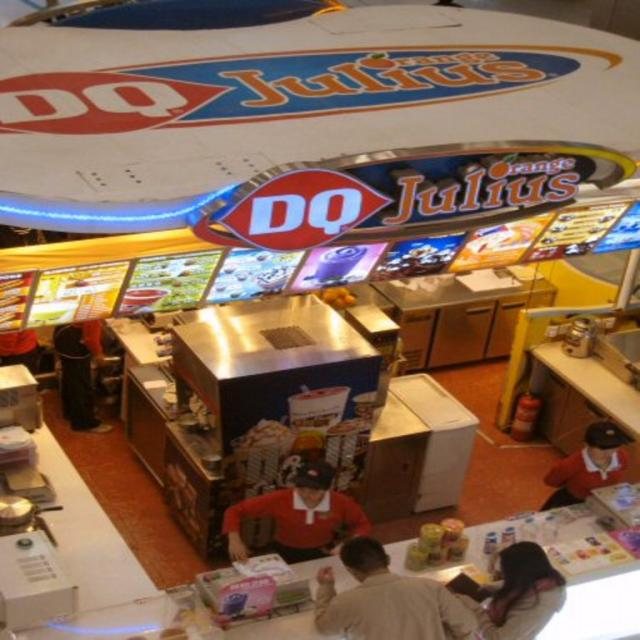desk: (0, 261, 638, 638)
person: (310, 535, 481, 640), (222, 461, 372, 565), (459, 540, 568, 640), (539, 419, 637, 512)
